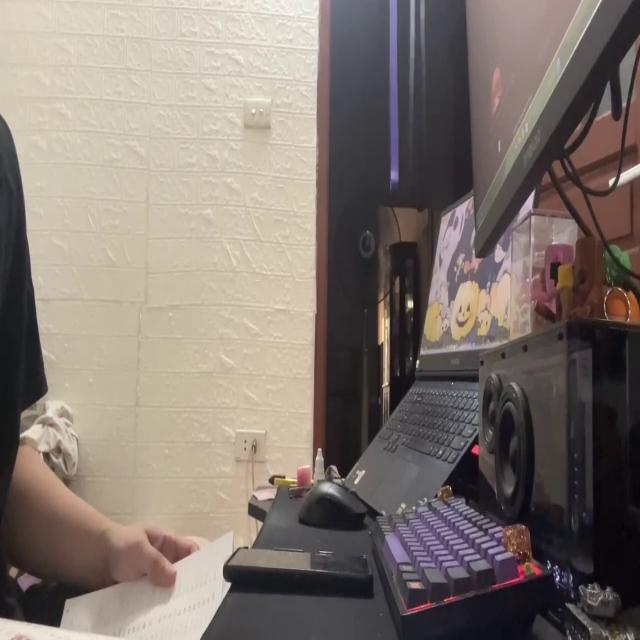book: (3, 534, 236, 640)
laptop: (340, 171, 538, 512), (464, 0, 640, 266)
phone: (220, 534, 376, 604)
student: (0, 110, 209, 636)
